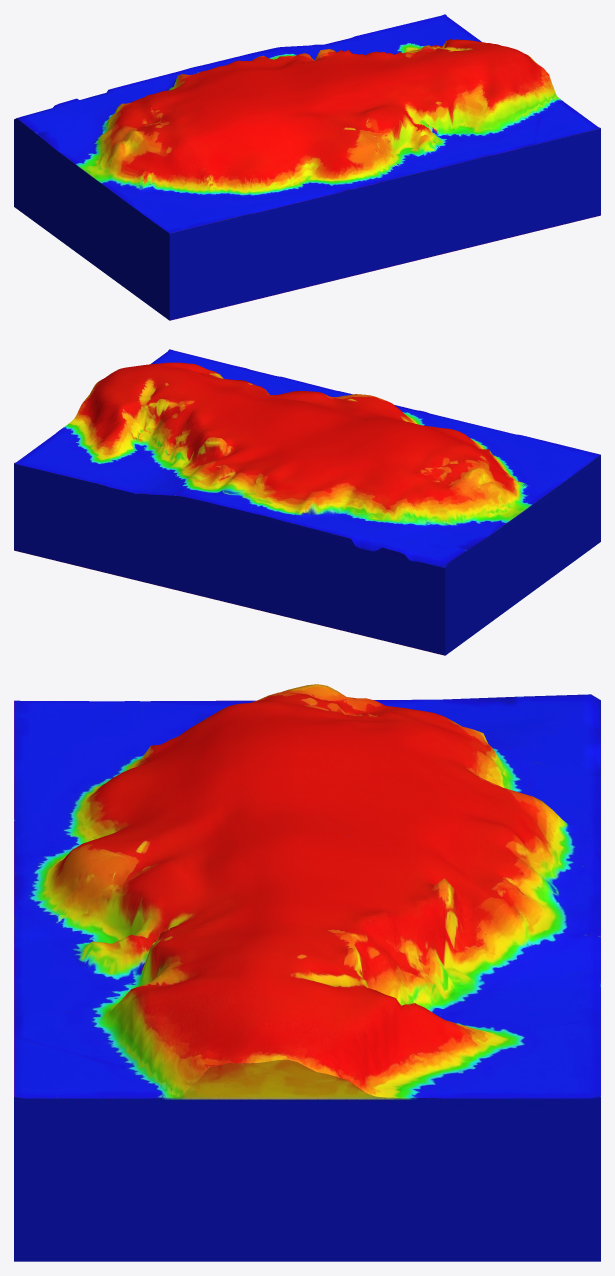
3 renders of one model, top to bottom at view 1: azimuth 30°, elevation 25°; view 2: azimuth 150°, elevation 25°; view 3: azimuth 270°, elevation 25°, orthographic. The views are drawn at different scales.
Visible parts, largest first — view 1: Geology_reconstructed_block; view 2: Geology_reconstructed_block; view 3: Geology_reconstructed_block.
Part boxes in pixels (bbox=[...]): Geology_reconstructed_block: bbox=[14, 14, 600, 320]; Geology_reconstructed_block: bbox=[14, 349, 600, 655]; Geology_reconstructed_block: bbox=[14, 684, 600, 1261].
Size of the model in its own units: 1.86 by 0.5407 by 1.16.
Materials: 1 (1 with a texture image).
